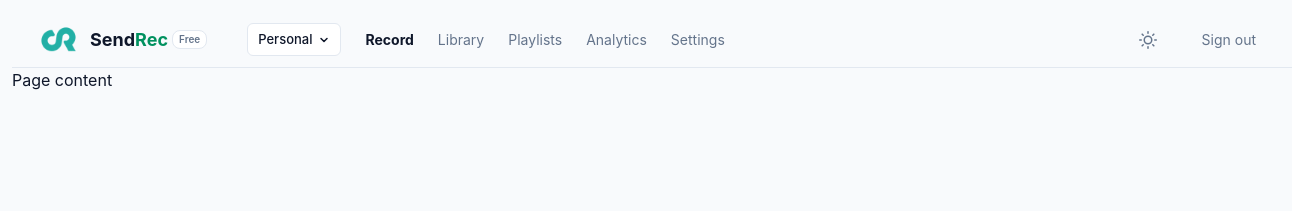
Test case: Layout › shows role badges for org members
Click the button named "Switch workspace".
click(294, 40)  # box [247,23,342,56]
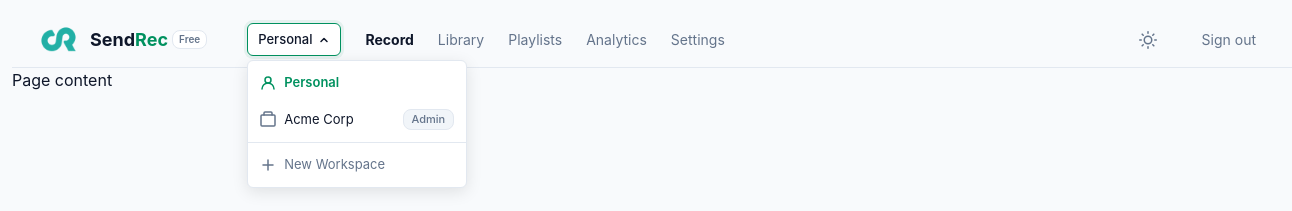
expect the text "admin" is shown: met, box [402,109,454,130]
